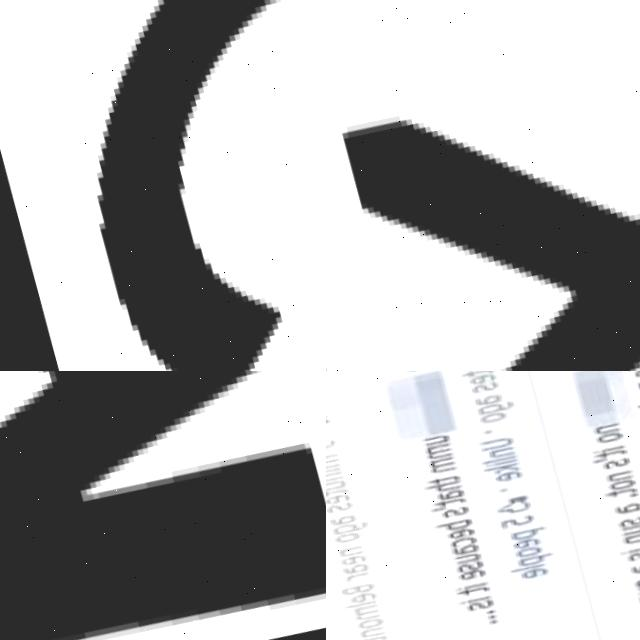1: (499, 506, 537, 526)
5: (326, 433, 339, 453)
A: (328, 507, 362, 527), (433, 480, 467, 500), (341, 556, 375, 575), (449, 535, 482, 554), (473, 385, 504, 403), (613, 492, 640, 509), (627, 551, 640, 569)
B: (434, 511, 473, 531), (341, 577, 374, 596)
C: (99, 0, 283, 371), (449, 529, 478, 546)
E: (335, 547, 370, 567), (455, 560, 489, 579), (446, 520, 476, 537), (326, 486, 352, 505), (348, 586, 377, 603), (519, 559, 548, 576), (495, 463, 524, 479), (511, 529, 540, 545), (466, 371, 495, 381)
G: (476, 391, 514, 412), (331, 515, 369, 535)
H: (423, 473, 461, 493)
I: (453, 574, 488, 589), (483, 450, 518, 465), (592, 435, 627, 449), (459, 588, 493, 602), (620, 536, 640, 548), (326, 461, 341, 474)
K: (483, 453, 521, 474)
L: (509, 554, 546, 570), (342, 594, 378, 608), (480, 447, 516, 461)
M: (0, 371, 326, 640), (424, 436, 454, 458), (427, 449, 457, 471), (353, 598, 383, 619), (326, 449, 339, 469)
N: (605, 460, 634, 477), (592, 413, 621, 429), (337, 539, 363, 556), (359, 620, 385, 637), (490, 438, 516, 455), (621, 521, 640, 538), (326, 465, 344, 482)
O: (332, 526, 361, 543), (477, 404, 506, 421), (595, 422, 624, 439), (515, 537, 544, 553), (608, 469, 637, 485), (357, 612, 383, 629)
P: (510, 517, 548, 538), (518, 544, 554, 563)
R: (344, 566, 373, 581)
S: (455, 554, 485, 571), (441, 500, 470, 517), (466, 592, 495, 609), (469, 374, 498, 391), (602, 447, 631, 464), (326, 497, 353, 513), (619, 505, 640, 522), (626, 539, 640, 555), (633, 564, 640, 581)
T: (426, 467, 461, 484), (455, 578, 487, 595), (594, 438, 630, 453), (603, 477, 639, 492), (430, 491, 465, 506), (354, 627, 386, 640), (326, 481, 348, 498), (458, 371, 493, 376)
U: (477, 429, 514, 448), (421, 427, 450, 444), (453, 545, 482, 561), (326, 473, 347, 490), (621, 512, 640, 529)
X: (326, 0, 640, 371)
